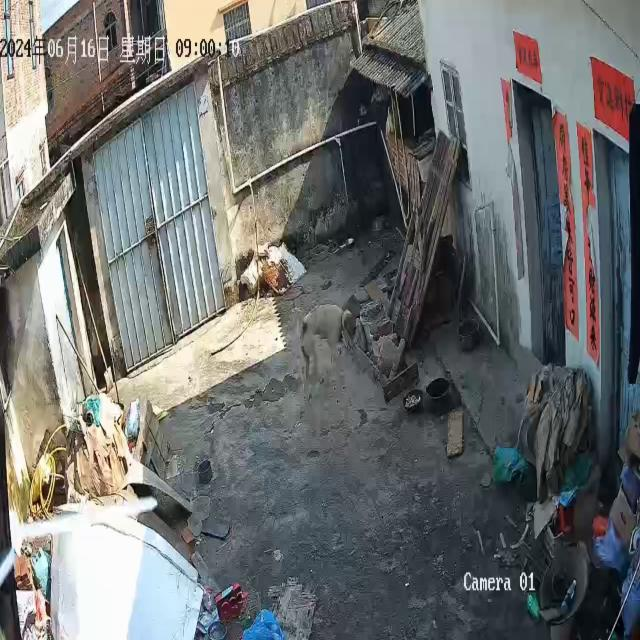dog: (300, 304, 356, 400)
